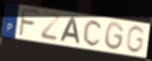A: (59, 16, 82, 45)
C: (82, 19, 104, 48)
F: (18, 7, 41, 38)
G: (104, 21, 126, 52), (124, 25, 146, 54)
Z: (39, 11, 62, 43)
